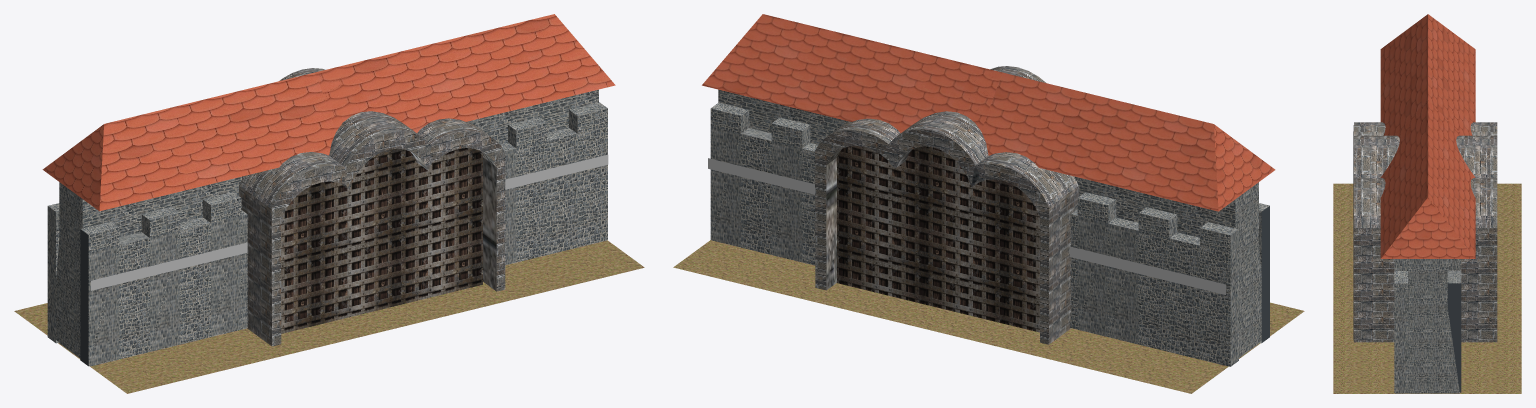
The model's file is HumanWallGate.fbx.
3 views of the same model, side by side, from view 1: azimuth 30°, elevation 25°; view 2: azimuth 150°, elevation 25°; view 3: azimuth 270°, elevation 25° (orthographic). The views are drawn at different scales.
Visible parts, largest first — view 1: Techo, Exterior, Reja, Gate, Suelo, Interior, BandaRoja; view 2: Techo, Exterior, Reja, Suelo, Gate, Interior, BandaRoja; view 3: Techo, Gate, Suelo, Interior, Exterior.
Boxes of the visible parts, x1,y1,x2,y2 form: Techo: [42, 14, 615, 211]; Exterior: [47, 102, 607, 366]; Reja: [281, 148, 482, 333]; Gate: [239, 68, 505, 346]; Suelo: [14, 240, 644, 393]; Interior: [56, 89, 606, 366]; BandaRoja: [91, 154, 608, 290]; Techo: [702, 14, 1275, 211]; Exterior: [710, 102, 1269, 366]; Reja: [837, 146, 1040, 332]; Suelo: [673, 240, 1304, 393]; Gate: [815, 66, 1078, 344]; Interior: [718, 89, 1261, 357]; BandaRoja: [708, 158, 1225, 294]; Techo: [1380, 14, 1475, 258]; Gate: [1353, 122, 1497, 342]; Suelo: [1333, 183, 1521, 393]; Interior: [1395, 259, 1459, 393]; Exterior: [1394, 259, 1461, 392].
Bounding box in the file's own units: 1531 × 619 × 576.
